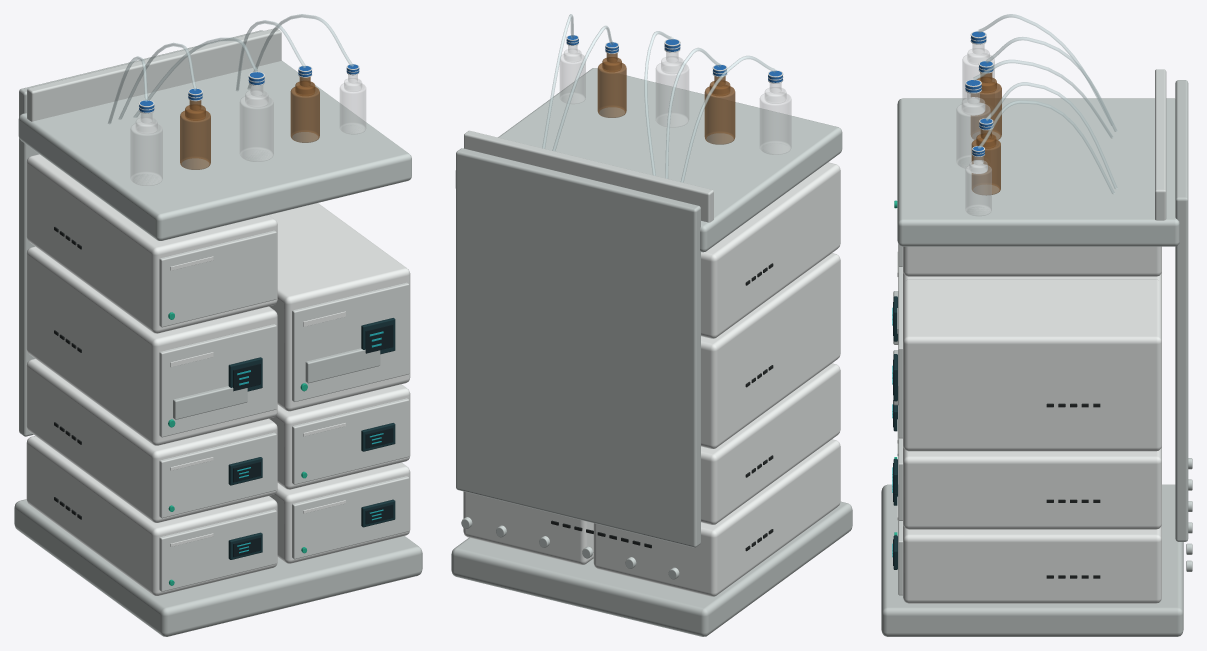
Rendered from hplc-system.glb.
3 views of the same model, side by side, from view 1: azimuth 30°, elevation 25°; view 2: azimuth 150°, elevation 25°; view 3: azimuth 270°, elevation 25° (orthographic).
Parts seen in each view (by area): view 1: Runtime batch - Cool white instrument polymer, Runtime batch - Light bead-blasted aluminum, Runtime batch - Brushed analytical silver, Runtime batch - Light instrument gray powder coat, Runtime batch - Clear solvent bottle glass, Runtime batch - Amber solvent bottle glass, Runtime batch - Smoked instrument display glass, Runtime batch - Clear analytical tubing, Runtime batch - Smoked control display, Runtime batch - Blue solvent cap; view 2: Runtime batch - Light instrument gray powder coat, Runtime batch - Cool white instrument polymer, Runtime batch - Brushed analytical silver, Runtime batch - Clear solvent bottle glass, Runtime batch - Light bead-blasted aluminum, Runtime batch - Amber solvent bottle glass, Runtime batch - Clear analytical tubing, Runtime batch - Casework seam shadow, Runtime batch - Blue solvent cap; view 3: Runtime batch - Cool white instrument polymer, Runtime batch - Brushed analytical silver, Runtime batch - Light instrument gray powder coat, Runtime batch - Clear solvent bottle glass, Runtime batch - Light bead-blasted aluminum, Runtime batch - Clear analytical tubing, Runtime batch - Amber solvent bottle glass, Runtime batch - Smoked control display, Runtime batch - Blue solvent cap, Runtime batch - Casework seam shadow.
Boxes of the visible parts, x1=… form: Runtime batch - Cool white instrument polymer: x1=26, y1=64, x2=410, y2=595; Runtime batch - Light bead-blasted aluminum: x1=27, y1=28, x2=409, y2=591; Runtime batch - Brushed analytical silver: x1=18, y1=60, x2=411, y2=240; Runtime batch - Light instrument gray powder coat: x1=14, y1=30, x2=422, y2=636; Runtime batch - Clear solvent bottle glass: x1=130, y1=74, x2=366, y2=185; Runtime batch - Amber solvent bottle glass: x1=180, y1=77, x2=319, y2=169; Runtime batch - Smoked instrument display glass: x1=233, y1=324, x2=393, y2=557; Runtime batch - Clear analytical tubing: x1=108, y1=14, x2=353, y2=123; Runtime batch - Smoked control display: x1=228, y1=318, x2=395, y2=559; Runtime batch - Blue solvent cap: x1=139, y1=64, x2=359, y2=112; Runtime batch - Light instrument gray powder coat: x1=451, y1=148, x2=852, y2=636; Runtime batch - Cool white instrument polymer: x1=463, y1=35, x2=840, y2=596; Runtime batch - Brushed analytical silver: x1=455, y1=68, x2=842, y2=579; Runtime batch - Clear solvent bottle glass: x1=559, y1=45, x2=791, y2=154; Runtime batch - Light bead-blasted aluminum: x1=464, y1=130, x2=713, y2=222; Runtime batch - Amber solvent bottle glass: x1=597, y1=53, x2=735, y2=144; Runtime batch - Clear analytical tubing: x1=542, y1=14, x2=776, y2=182; Runtime batch - Casework seam shadow: x1=551, y1=263, x2=773, y2=551; Runtime batch - Blue solvent cap: x1=566, y1=35, x2=782, y2=82; Runtime batch - Cool white instrument polymer: x1=897, y1=31, x2=1161, y2=603; Runtime batch - Brushed analytical silver: x1=897, y1=98, x2=1192, y2=571; Runtime batch - Light instrument gray powder coat: x1=881, y1=80, x2=1188, y2=636; Runtime batch - Clear solvent bottle glass: x1=956, y1=43, x2=994, y2=215; Runtime batch - Light bead-blasted aluminum: x1=898, y1=69, x2=1166, y2=595; Runtime batch - Clear analytical tubing: x1=973, y1=14, x2=1117, y2=193; Runtime batch - Amber solvent bottle glass: x1=971, y1=72, x2=1001, y2=195; Runtime batch - Smoked control display: x1=893, y1=296, x2=897, y2=569; Runtime batch - Blue solvent cap: x1=965, y1=31, x2=993, y2=156; Runtime batch - Casework seam shadow: x1=1046, y1=403, x2=1100, y2=578.
Size of the model in its own units: 0.62 by 1.18 by 0.64.
